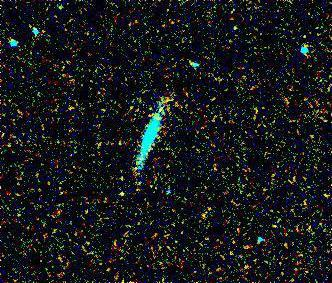star: (100, 180, 130, 210)
